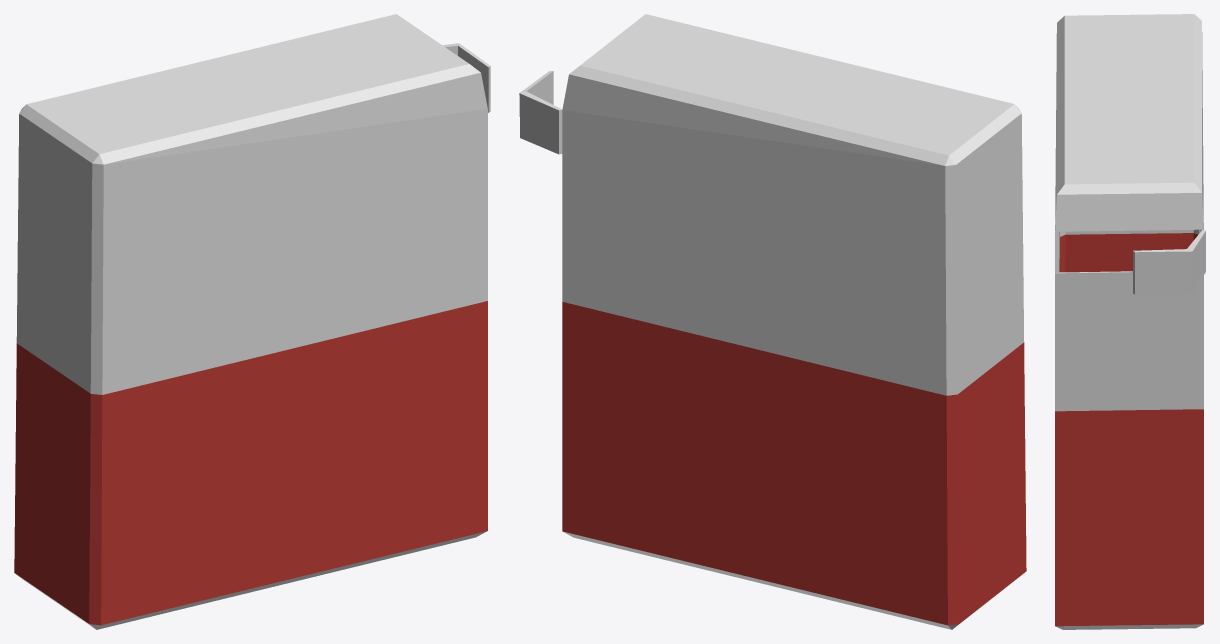
File: sabão_em_pó .fbx
3 views of the same model, side by side, from view 1: azimuth 30°, elevation 25°; view 2: azimuth 150°, elevation 25°; view 3: azimuth 270°, elevation 25° (orthographic). The views are drawn at different scales.
Parts seen in each view (by area): view 1: SabaoEmPo; view 2: SabaoEmPo; view 3: SabaoEmPo.
Boxes of the visible parts, x1,y1,x2,y2 form: SabaoEmPo: (14, 14, 490, 629); SabaoEmPo: (519, 14, 1026, 629); SabaoEmPo: (1055, 14, 1205, 629).
Bounding box in the file's own units: 1093 × 1116 × 344.
